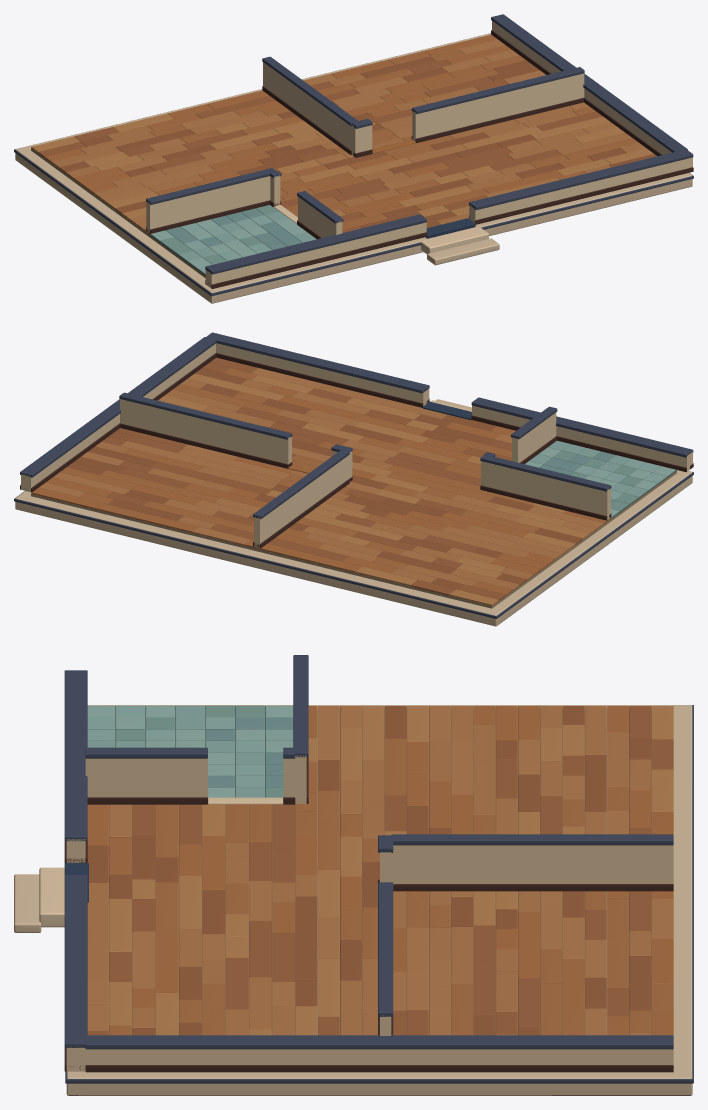
File: architecture.glb
3 views of the same model, one above another, from view 1: azimuth 30°, elevation 25°; view 2: azimuth 150°, elevation 25°; view 3: azimuth 270°, elevation 25° (orthographic). The views are drawn at different scales.
Parts seen in each view (by area): view 1: architecture_pivot.001_Mesh; view 2: architecture_pivot.001_Mesh; view 3: architecture_pivot.001_Mesh.
Boxes of the visible parts, x1,y1,x2,y2 form: architecture_pivot.001_Mesh: (14,14,693,303); architecture_pivot.001_Mesh: (14,332,693,626); architecture_pivot.001_Mesh: (14,655,693,1095).
Size of the model in its own units: 9.44 by 0.888 by 7.22.
